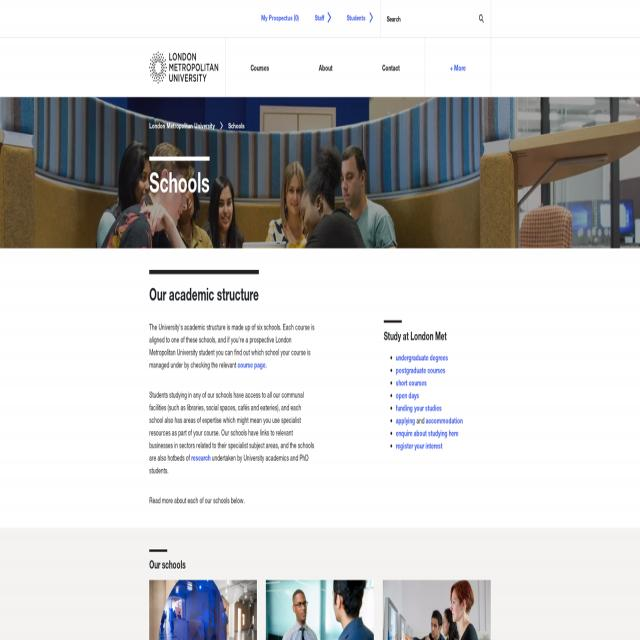button: (382, 579, 490, 640), (149, 580, 257, 640), (266, 580, 374, 640), (226, 38, 294, 97), (358, 38, 424, 97), (425, 38, 491, 97), (294, 38, 357, 97), (149, 51, 218, 84), (470, 0, 490, 37)
field: (380, 0, 470, 37)
